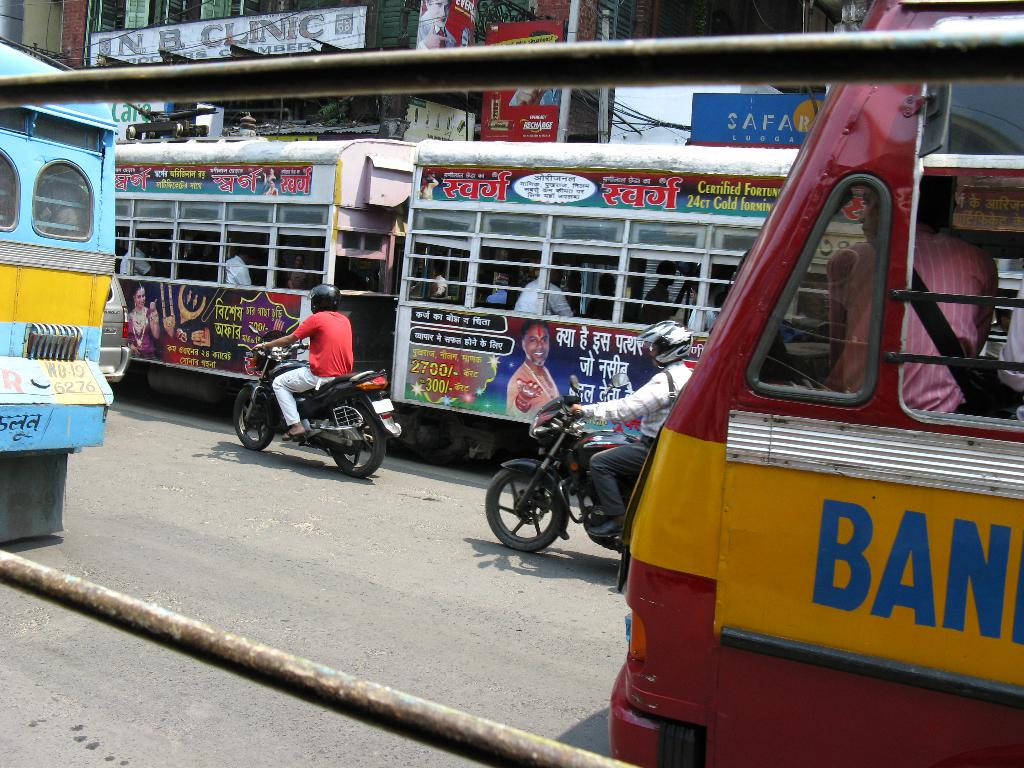Bus: (600, 0, 1023, 767), (385, 135, 1023, 426), (106, 132, 449, 398), (0, 34, 125, 533)
